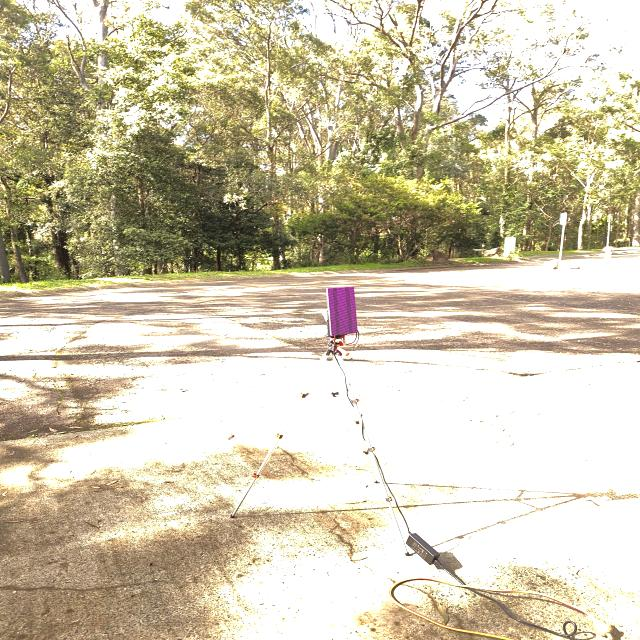matrix: (324, 284, 363, 337)
